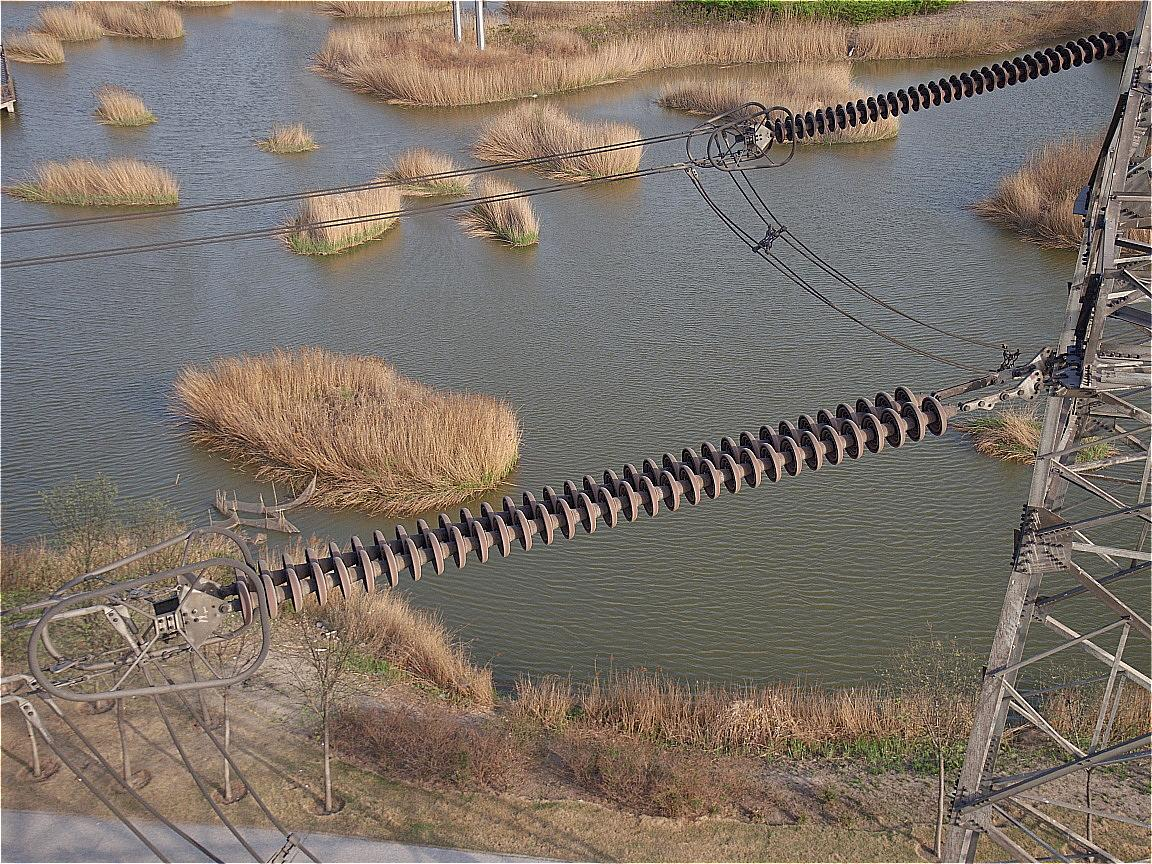insultor1: (226, 361, 964, 628), (754, 22, 1152, 141)
